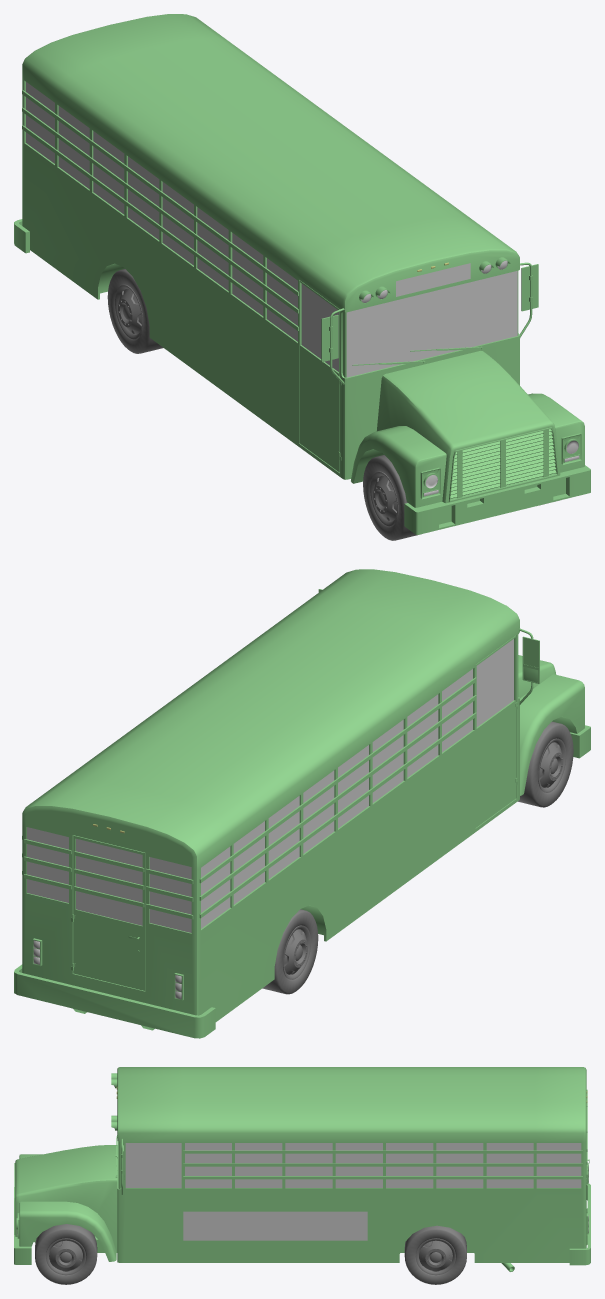
The model's file is bus_pr_1.fbx.
3 renders of one model, top to bottom at view 1: azimuth 30°, elevation 25°; view 2: azimuth 150°, elevation 25°; view 3: azimuth 270°, elevation 25°, orthographic. The views are drawn at different scales.
Visible parts, largest first — view 1: bus_pr_1, bus_pr_1_2_2, bus_pr_1_1_3, bus_pr_1_1_4, deca_1; view 2: bus_pr_1, bus_pr_1_2_1, bus_pr_1_2_2, bus_pr_1_1_3, bus_pr_1_1_4; view 3: bus_pr_1, deca_2, bus_pr_1_1_1, bus_pr_1_1_2.
Part boxes in pixels (x1,y1,x2,y2): bus_pr_1: (14,14,590,534); bus_pr_1_2_2: (299,280,340,472); bus_pr_1_1_3: (363,455,417,540); bus_pr_1_1_4: (107,269,163,353); deca_1: (396,263,470,296); bus_pr_1: (14,569,590,1038); bus_pr_1_2_1: (72,835,145,990); bus_pr_1_2_2: (475,635,517,827); bus_pr_1_1_3: (518,721,573,807); bus_pr_1_1_4: (262,909,318,994); bus_pr_1: (14,1067,590,1271); deca_2: (183,1211,367,1240); bus_pr_1_1_1: (35,1224,97,1284); bus_pr_1_1_2: (404,1225,466,1284).
Size of the model in its own units: 322 by 325 by 1016.
